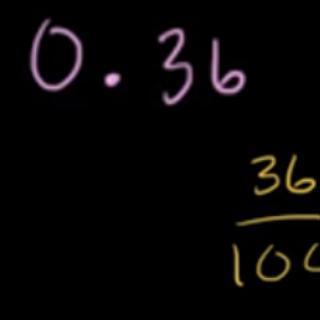.: (102, 69, 124, 90)
0: (24, 19, 83, 98), (254, 243, 291, 285)
1: (228, 239, 246, 291)
3: (153, 22, 195, 109), (247, 146, 281, 201)
6: (208, 34, 247, 104), (285, 149, 320, 197)
